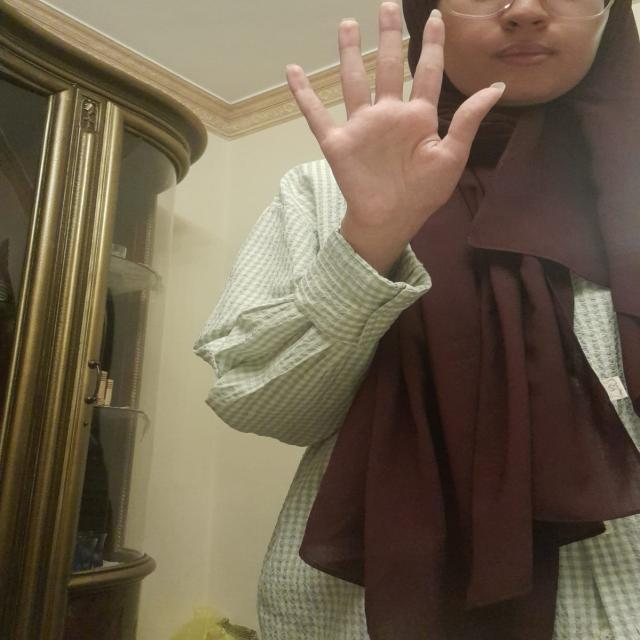Open Hand: (283, 3, 494, 220)
